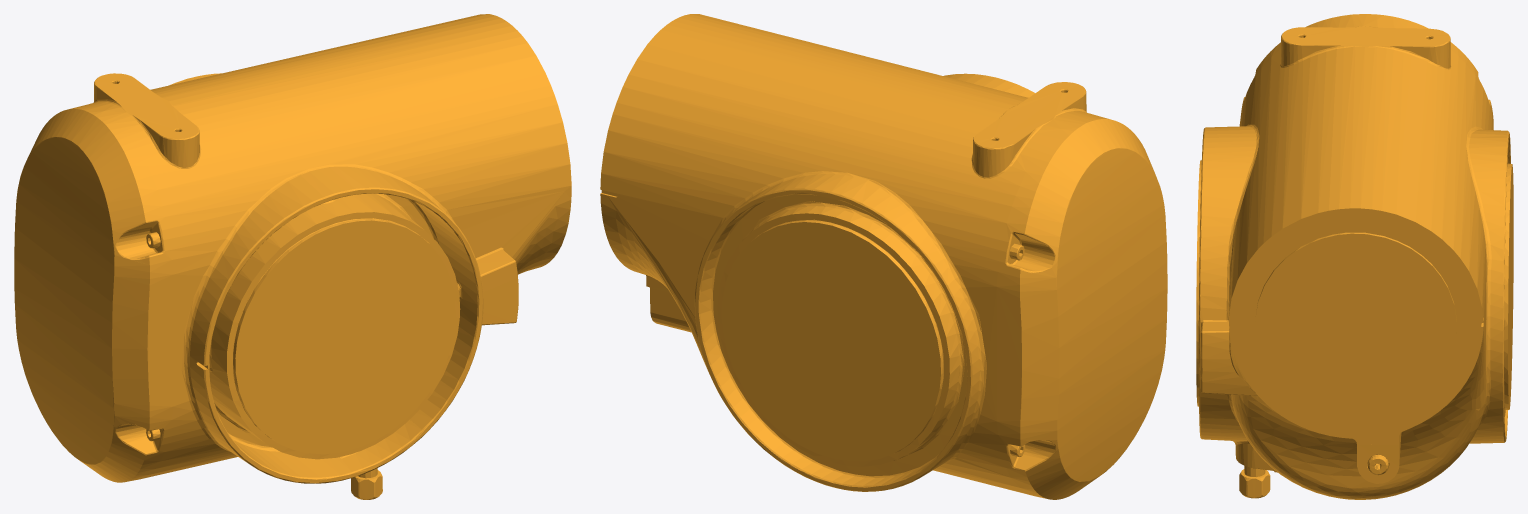
The model's file is ABBIRB1300Link3.dae.
The picture shows the model from 3 angles, left to right: view 1: azimuth 30°, elevation 25°; view 2: azimuth 150°, elevation 25°; view 3: azimuth 270°, elevation 25°; orthographic projection. The views are drawn at different scales.
Parts seen in each view (by area): view 1: node_66f243f5_e9aa_41dd_80e1_8ba727e2a017_mesh0; view 2: node_66f243f5_e9aa_41dd_80e1_8ba727e2a017_mesh0; view 3: node_66f243f5_e9aa_41dd_80e1_8ba727e2a017_mesh0.
Boxes of the visible parts, x1,y1,x2,y2 form: node_66f243f5_e9aa_41dd_80e1_8ba727e2a017_mesh0: (14, 14, 571, 499); node_66f243f5_e9aa_41dd_80e1_8ba727e2a017_mesh0: (600, 14, 1167, 499); node_66f243f5_e9aa_41dd_80e1_8ba727e2a017_mesh0: (1196, 14, 1513, 499).
Size of the model in its own units: 0.2382 by 0.1497 by 0.1972.
